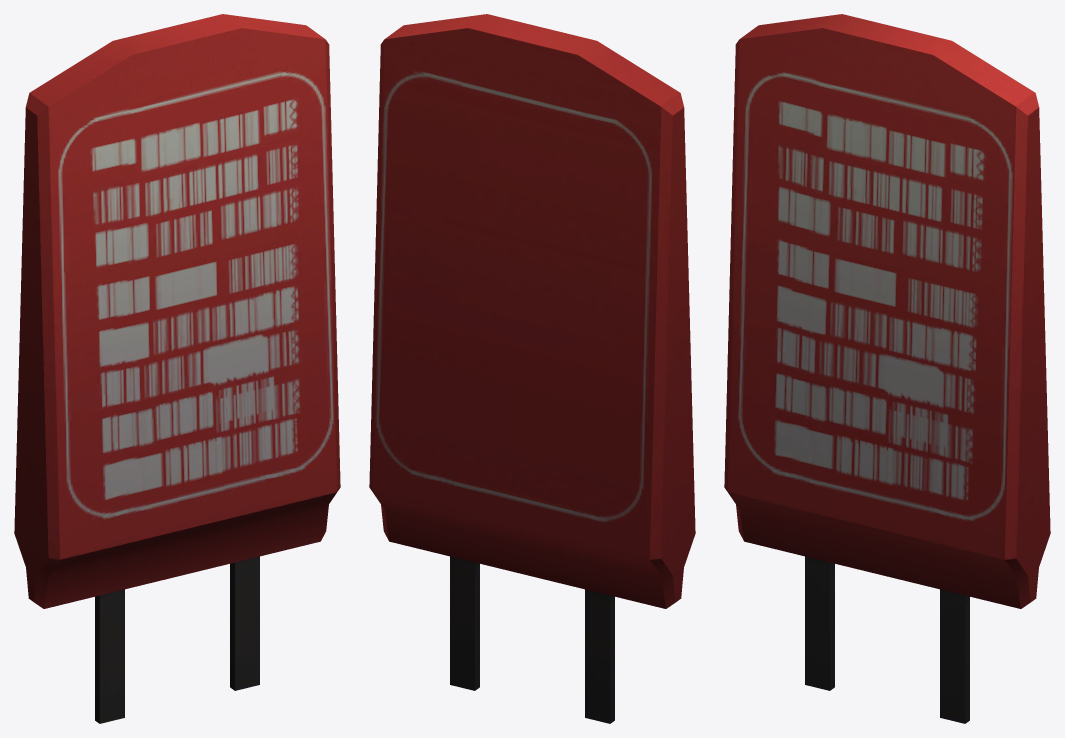
The model's file is SM_Wall_Fire_Blanket.FBX.
3 renders of one model, left to right at view 1: azimuth 30°, elevation 25°; view 2: azimuth 150°, elevation 25°; view 3: azimuth 330°, elevation 25°, orthographic.
Visible parts, largest first — view 1: SM_Wall_Fire_Blanket; view 2: SM_Wall_Fire_Blanket; view 3: SM_Wall_Fire_Blanket.
Part boxes in pixels (x1=…): SM_Wall_Fire_Blanket: x1=14, y1=14, x2=340, y2=723; SM_Wall_Fire_Blanket: x1=369, y1=14, x2=695, y2=723; SM_Wall_Fire_Blanket: x1=724, y1=14, x2=1050, y2=723.
Size of the model in its own units: 17.7 by 4.45 by 38.7.
